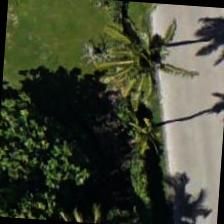Kelapa_Sawit: (91, 12, 188, 108), (98, 86, 194, 182)
